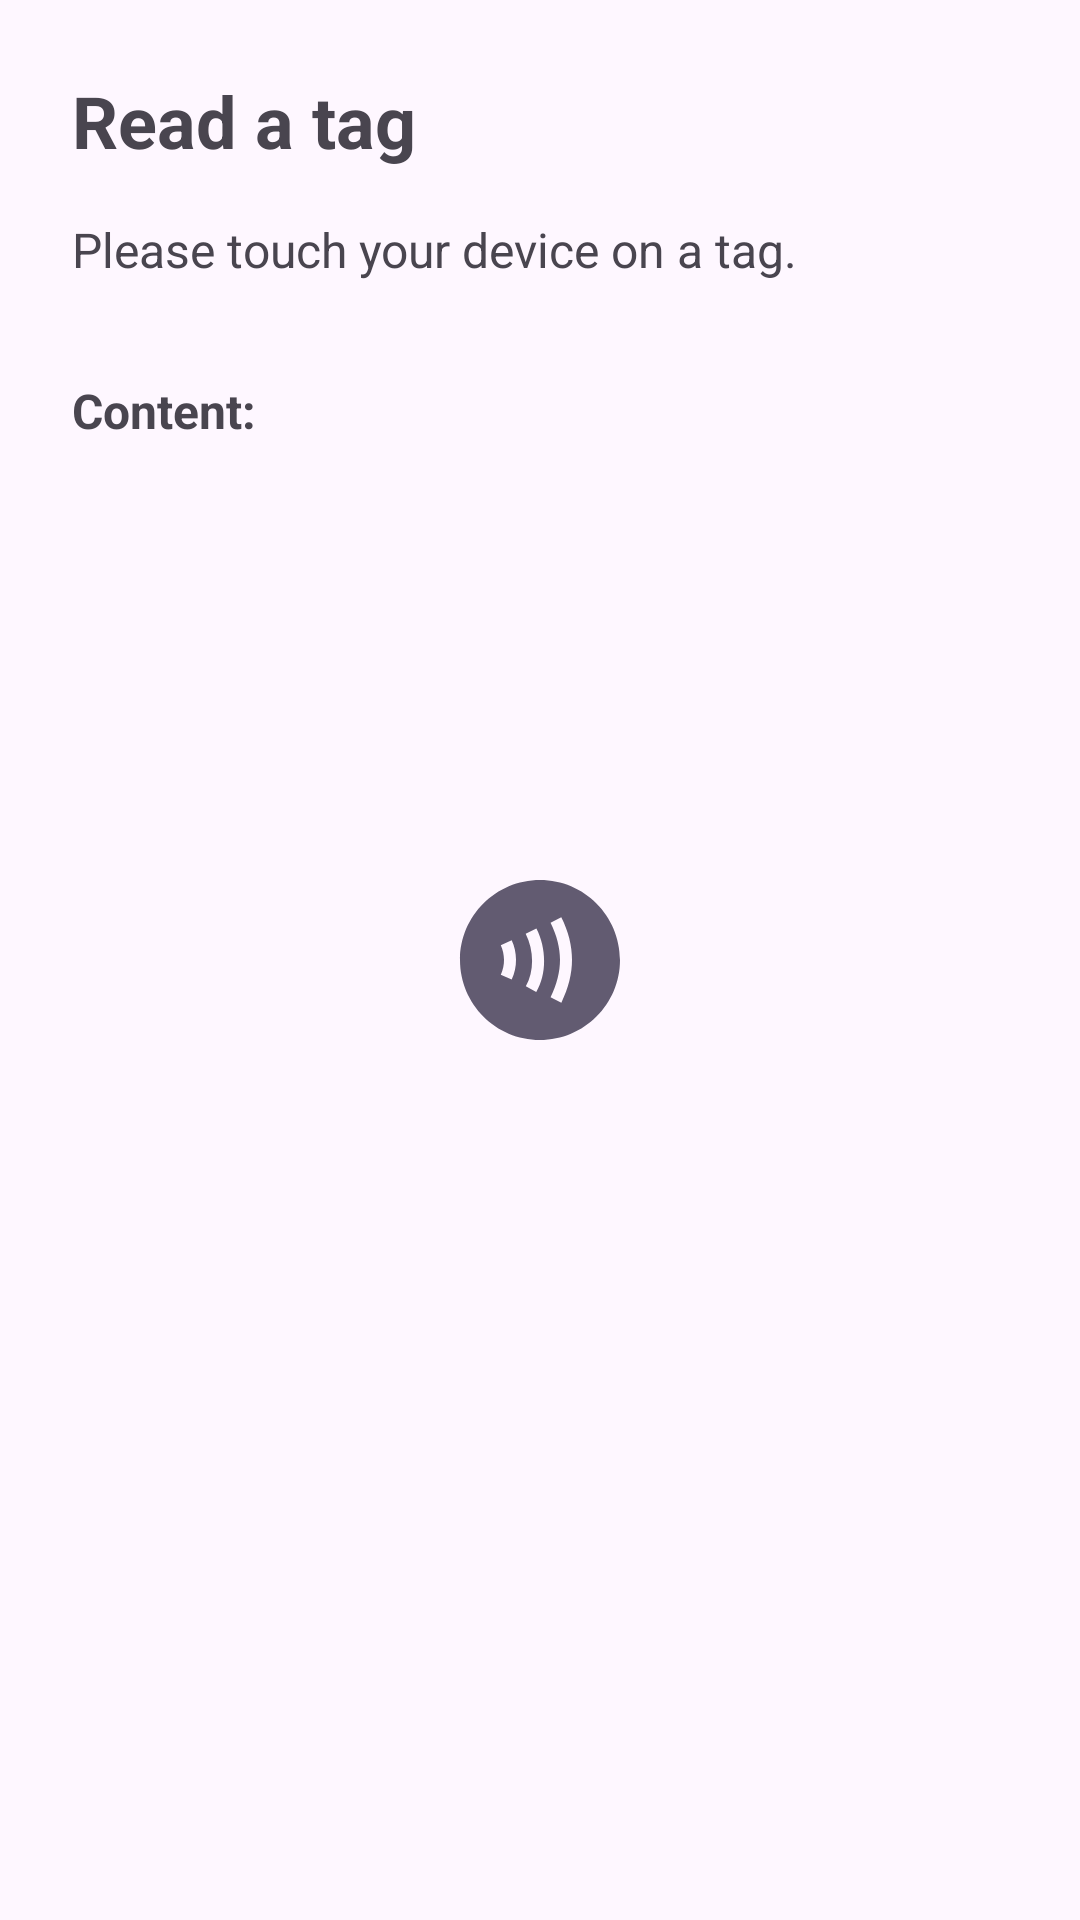

Locate icon controls on the screen. Image size 1080px x 1920px, boxes as (x1, y1, x2, y2).
NFC icon: (460, 880, 620, 1040)
